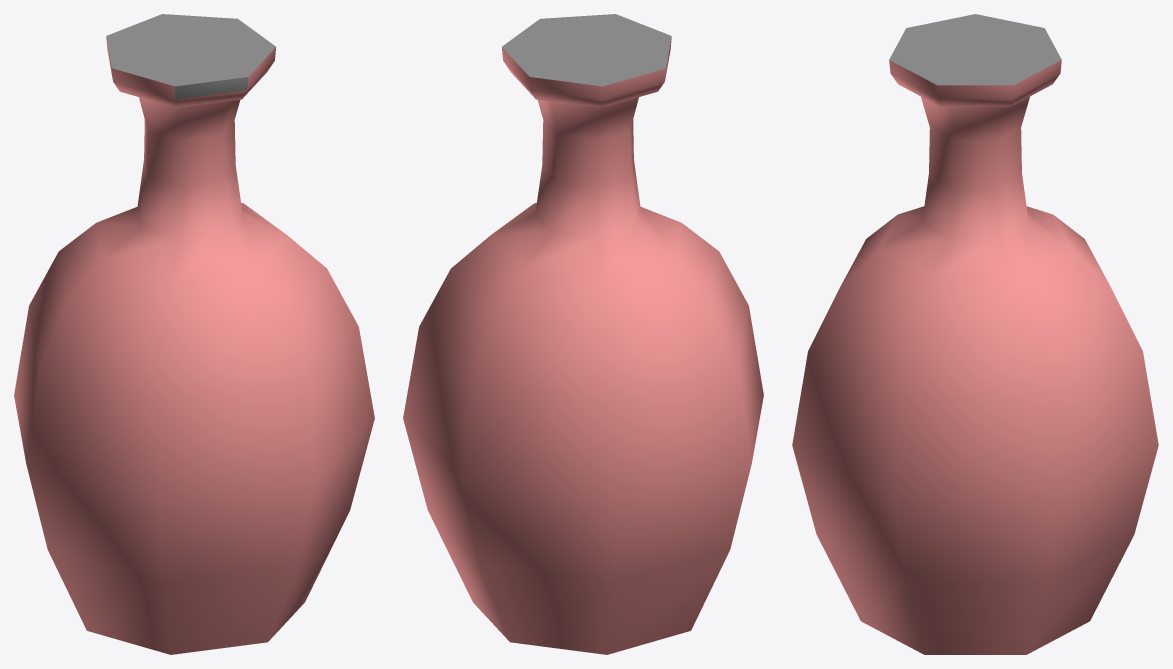
Rendered from V_Obj_S__O_Pot01.gltf.
The picture shows the model from 3 angles, left to right: view 1: azimuth 30°, elevation 25°; view 2: azimuth 150°, elevation 25°; view 3: azimuth 270°, elevation 25°; orthographic projection.
Parts seen in each view (by area): view 1: O_Pot01; view 2: O_Pot01; view 3: O_Pot01.
Part boxes in pixels (bbox=[...]): O_Pot01: bbox=[14, 14, 374, 654]; O_Pot01: bbox=[403, 14, 763, 654]; O_Pot01: bbox=[792, 14, 1158, 654].
Bounding box in the file's own units: 0.1327 × 0.2289 × 0.1361.
